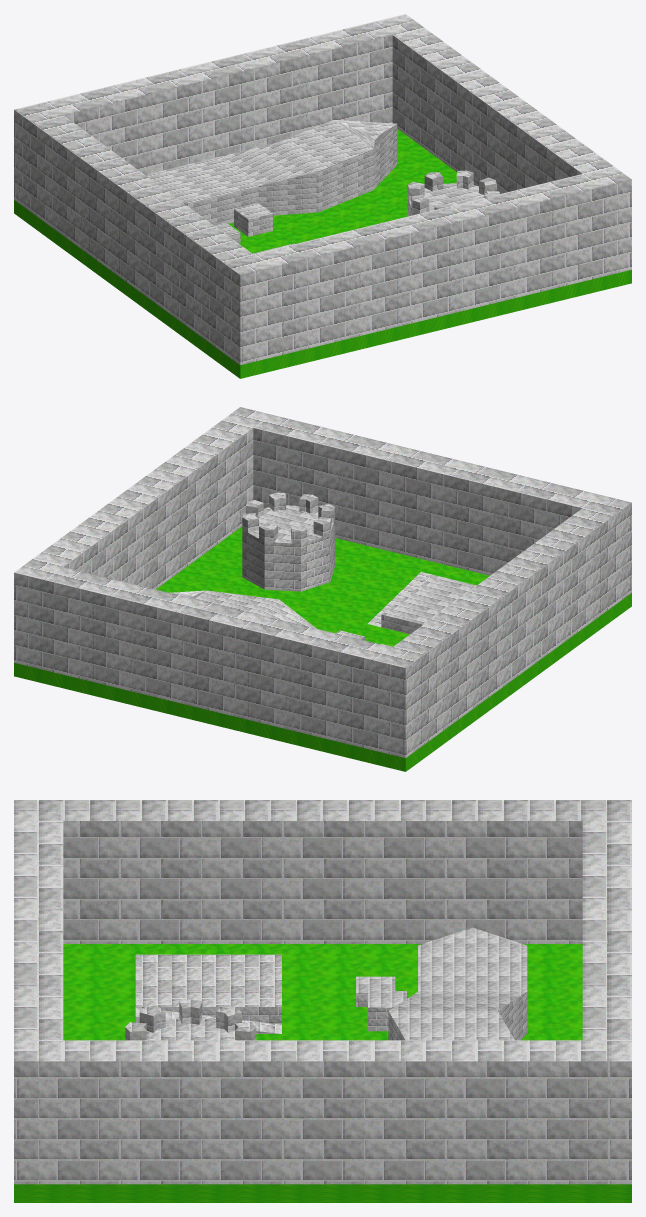
File: Platforms.fbx
3 renders of one model, top to bottom at view 1: azimuth 30°, elevation 25°; view 2: azimuth 150°, elevation 25°; view 3: azimuth 270°, elevation 25°, orthographic. The views are drawn at different scales.
Visible parts, largest first — view 1: Cube, Platforms, Tower; view 2: Cube, Tower, Platform, Platforms; view 3: Cube, Platforms, Platform, Tower.
Part boxes in pixels (<box>): Cube: <box>14,14,631,378</box>; Platforms: <box>147,120,397,243</box>; Tower: <box>407,170,499,216</box>; Cube: <box>14,407,631,771</box>; Tower: <box>242,492,334,591</box>; Platform: <box>368,572,476,634</box>; Platforms: <box>169,590,392,647</box>; Cube: <box>14,800,631,1202</box>; Platforms: <box>356,927,527,1040</box>; Platform: <box>135,954,281,1033</box>; Tower: <box>125,999,256,1040</box>.
Bounding box in the file's own units: 3000 × 759 × 3000.
2 materials, 2 textured.
